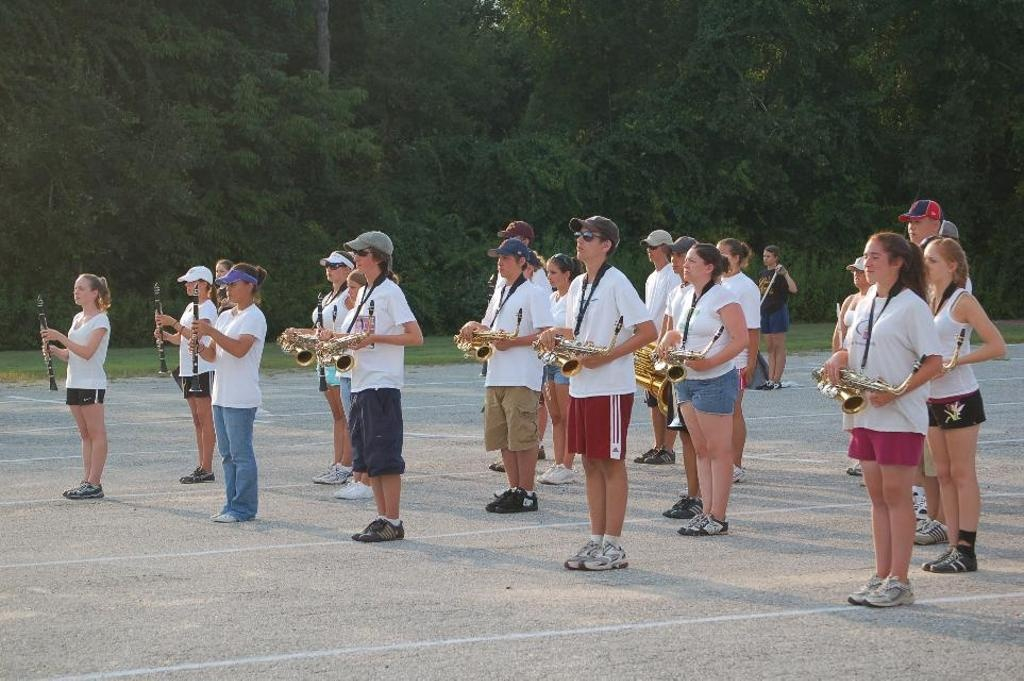human_face: (863, 240, 893, 284), (923, 246, 947, 282), (906, 213, 930, 243), (576, 228, 598, 260), (682, 249, 704, 281), (715, 244, 733, 274), (497, 254, 519, 277), (353, 248, 375, 270), (546, 262, 566, 286), (226, 278, 246, 301), (73, 280, 91, 304), (346, 278, 364, 302), (670, 249, 688, 272), (504, 231, 524, 250), (324, 262, 342, 282), (853, 265, 869, 287), (184, 278, 202, 296), (646, 244, 660, 262), (214, 265, 228, 281), (762, 250, 772, 264)
